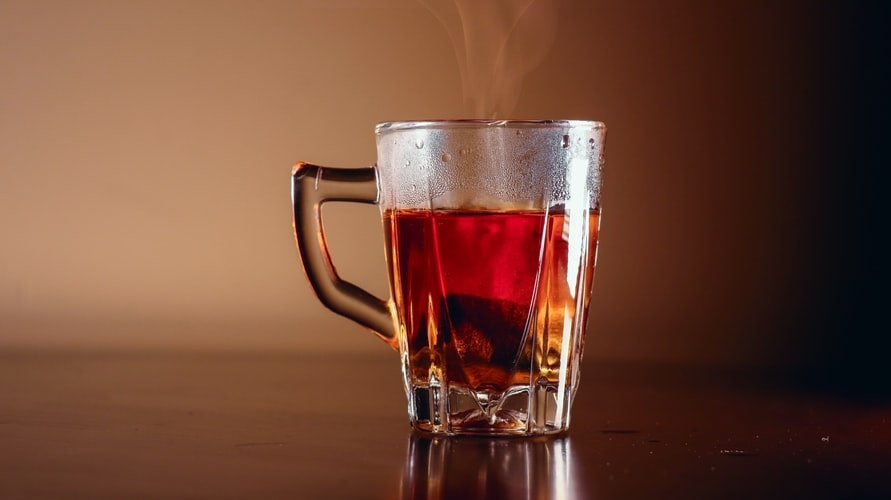whiskey: (385, 120, 605, 432)
